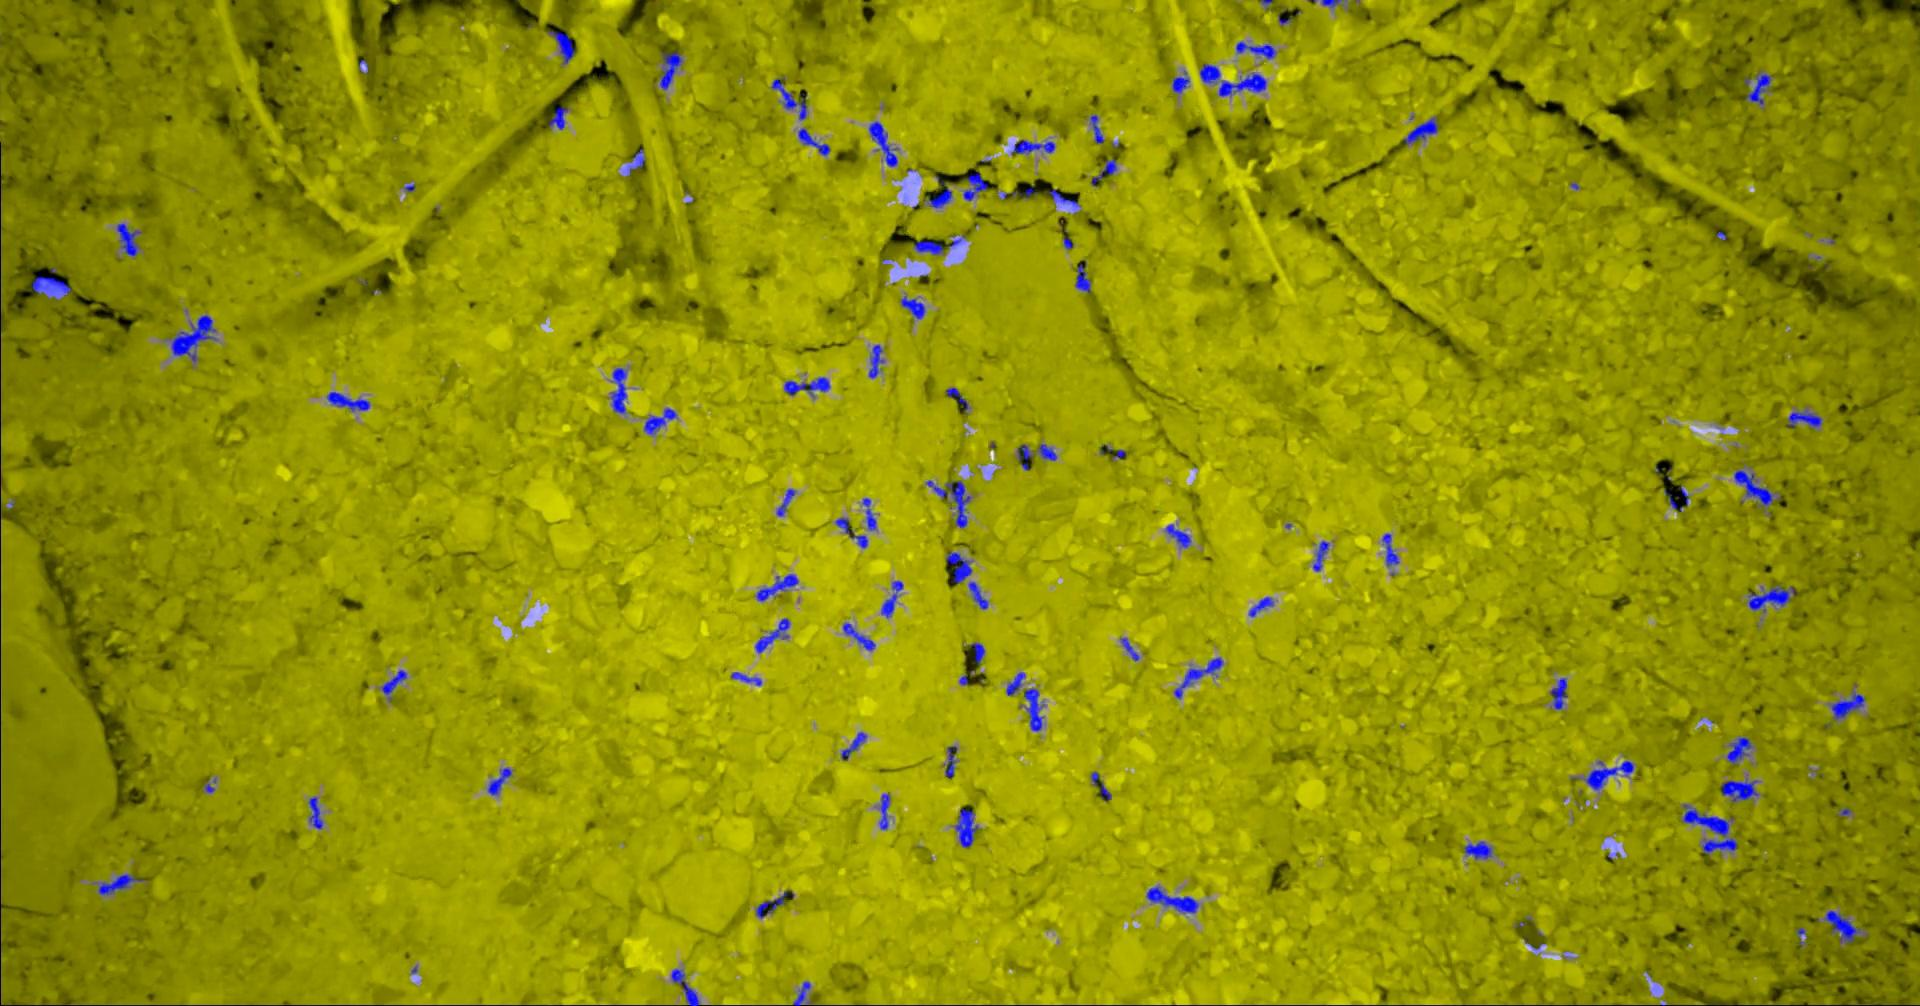ant: (1683, 804, 1737, 854), (1199, 64, 1265, 97), (171, 314, 216, 361), (926, 480, 969, 527), (1173, 657, 1222, 699), (1583, 760, 1633, 790), (771, 77, 806, 119), (1733, 469, 1771, 507), (1145, 887, 1197, 913), (869, 121, 897, 166), (1749, 586, 1796, 612), (30, 267, 70, 298), (1823, 909, 1859, 942), (754, 619, 789, 652), (756, 574, 797, 600), (670, 968, 698, 1005), (98, 873, 143, 894), (756, 890, 792, 917), (836, 517, 867, 547), (1403, 116, 1437, 144), (783, 376, 829, 396), (643, 406, 676, 434), (842, 622, 875, 650), (1830, 692, 1864, 719), (954, 808, 977, 847), (326, 391, 370, 412), (1745, 72, 1771, 104), (797, 128, 829, 155), (549, 30, 574, 64), (659, 51, 681, 89), (1719, 780, 1757, 801), (945, 551, 971, 582), (1023, 688, 1043, 730), (880, 580, 902, 617), (381, 669, 406, 700), (927, 175, 951, 207), (116, 224, 140, 255), (610, 367, 626, 413), (841, 730, 866, 760), (1010, 138, 1054, 155), (1091, 158, 1116, 185), (963, 171, 988, 199), (1726, 735, 1751, 763), (1236, 41, 1275, 58), (488, 767, 510, 795), (1164, 523, 1190, 547), (945, 387, 968, 413), (968, 580, 988, 608), (1048, 188, 1079, 206), (776, 488, 795, 516), (1382, 533, 1398, 565), (1312, 540, 1328, 572), (1550, 677, 1567, 709), (1787, 412, 1821, 427), (900, 296, 924, 318), (1463, 841, 1491, 859), (1248, 596, 1272, 616), (869, 344, 883, 379), (626, 149, 644, 175), (549, 105, 568, 130), (1074, 263, 1090, 292), (862, 498, 876, 530), (309, 796, 323, 828), (1006, 671, 1023, 695), (792, 981, 810, 1005), (913, 240, 943, 254), (730, 671, 761, 685), (1090, 114, 1103, 144), (1120, 638, 1138, 661), (1017, 445, 1032, 470), (1171, 71, 1189, 93), (879, 793, 889, 829), (945, 746, 956, 776), (969, 641, 984, 663), (1037, 443, 1057, 460), (1011, 187, 1036, 197), (1098, 781, 1111, 800), (1321, 0, 1345, 8)
